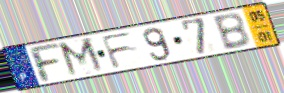7: (178, 17, 211, 57)
9: (142, 26, 172, 62)
B: (210, 11, 252, 52)
F: (25, 42, 64, 85), (99, 30, 135, 71)
M: (55, 36, 108, 79)
